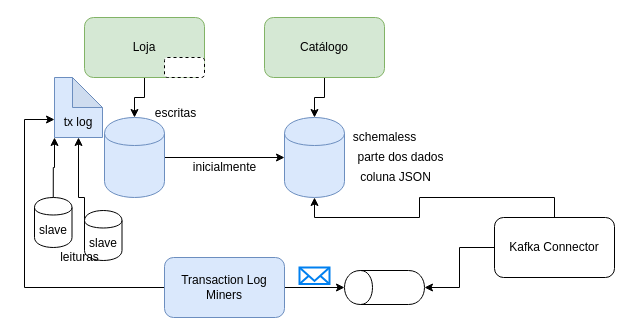
The diagram is 632 pixels wide and 335 high, and some of its shapes have lost their labels. The shapes that lost their labels are listed below. From the top down, each one's box as (x1, y1, x2, y2) in pixels, then its label:
(104, 116, 164, 198): MySQL
(284, 116, 344, 198): PostgreSQL
(344, 270, 424, 304): kafka
